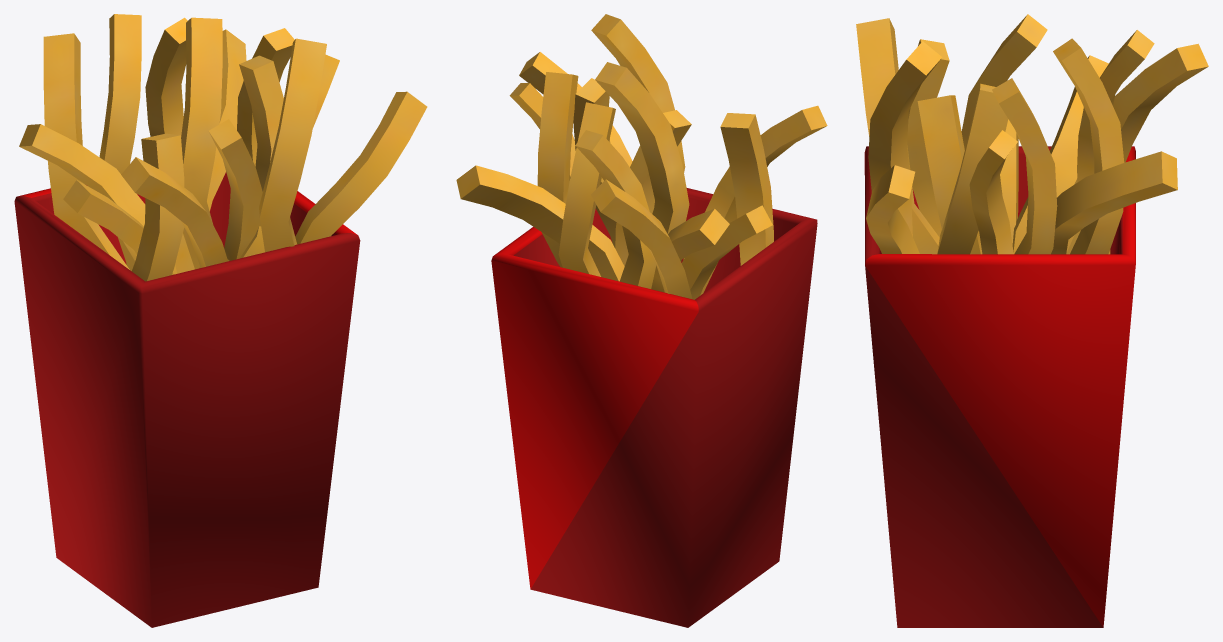
File: fries_-_midpoly.glb
The picture shows the model from 3 angles, left to right: view 1: azimuth 30°, elevation 25°; view 2: azimuth 150°, elevation 25°; view 3: azimuth 270°, elevation 25°; orthographic projection. The views are drawn at different scales.
Parts seen in each view (by area): view 1: fries; view 2: fries; view 3: fries.
Boxes of the visible parts, x1,y1,x2,y2 form: fries: [14, 14, 427, 627]; fries: [456, 14, 827, 627]; fries: [856, 14, 1208, 627].
Bounding box in the file's own units: 5.95 × 10.13 × 5.57.
1 material, 1 textured.
